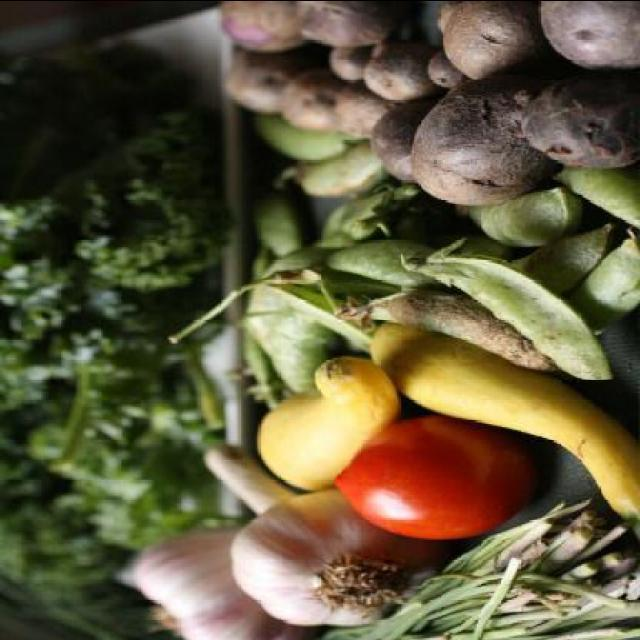Tomato: (330, 425, 544, 547)
